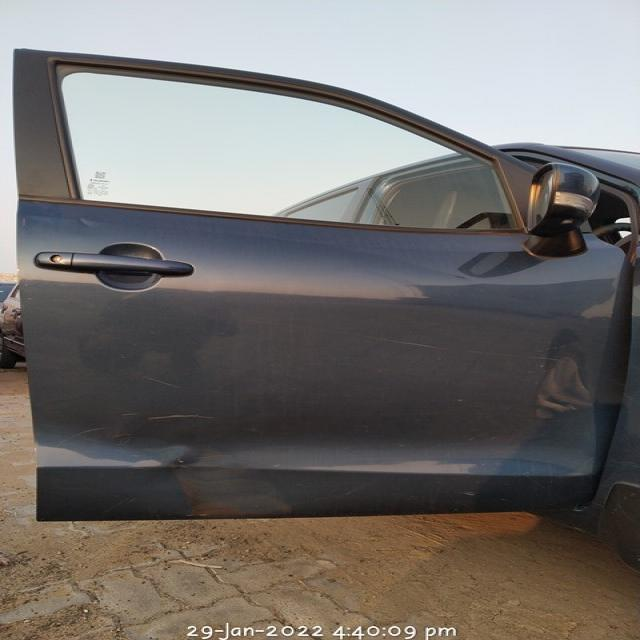damage: (524, 324, 600, 438), (131, 401, 220, 437)
